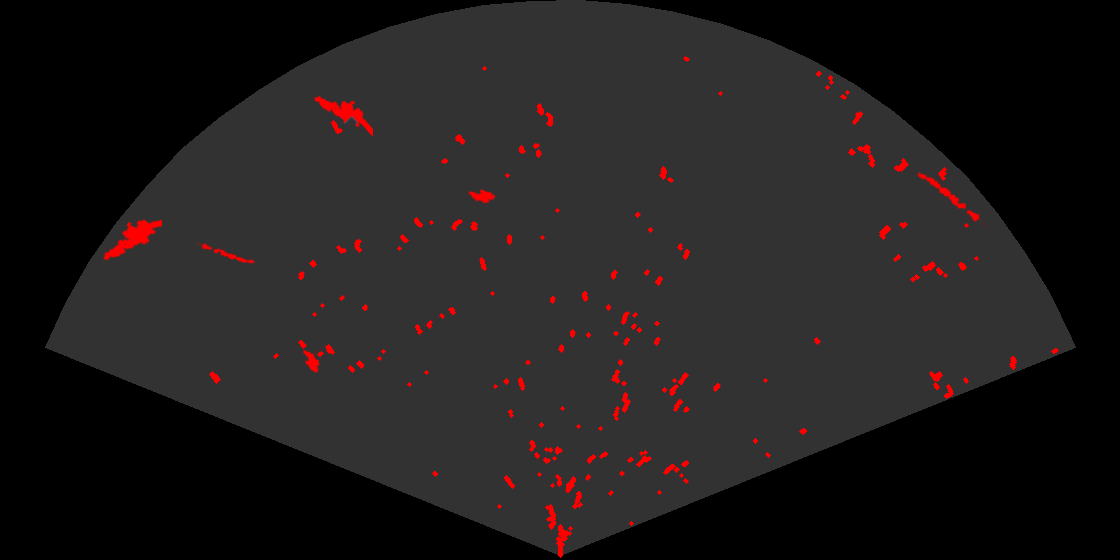AUV: (301, 344, 326, 375), (467, 188, 497, 207)
chain: (917, 172, 990, 228), (197, 240, 256, 265)
frogman: (101, 217, 162, 262), (313, 94, 373, 138)
